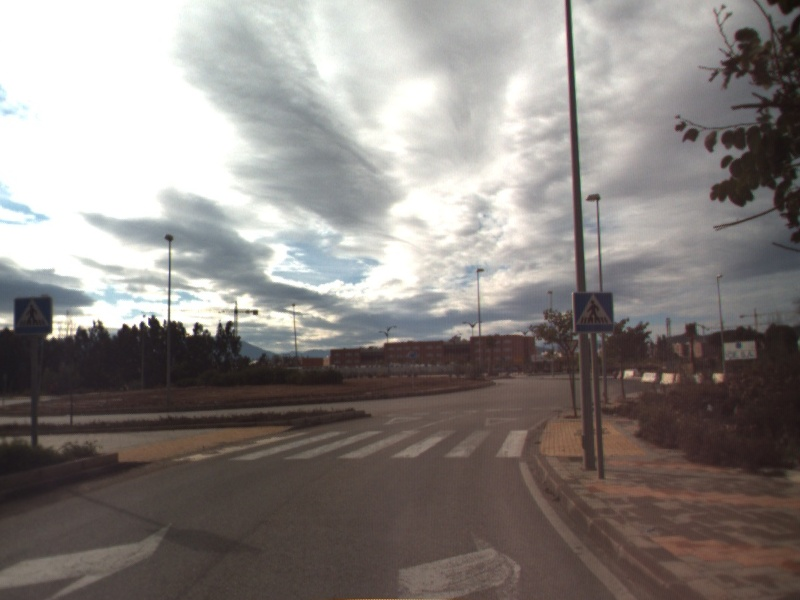RIGHT: (1, 516, 176, 600), (392, 525, 523, 600)
